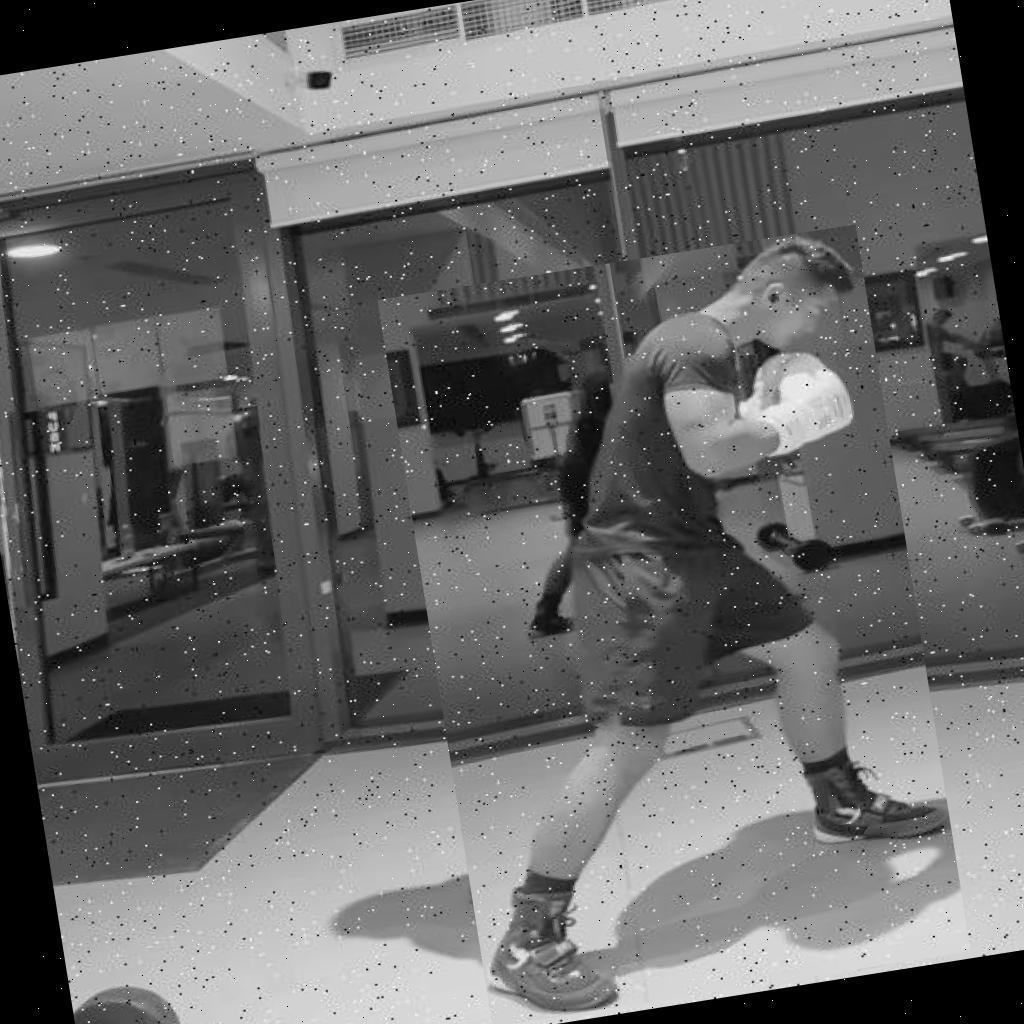no punch: (377, 223, 970, 1024)
